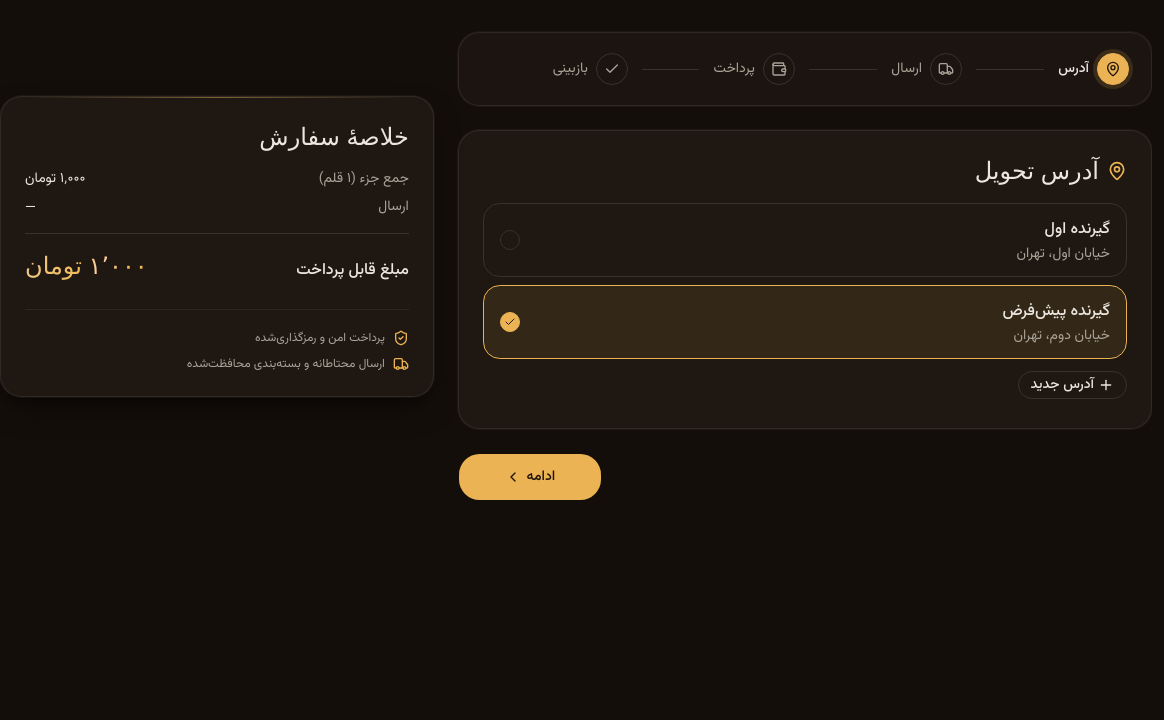
Test: checkout state logic › keeps order submission failures visible beside the retry action
Click the button "ادامه".
click(530, 477)  # box [458,453,602,501]
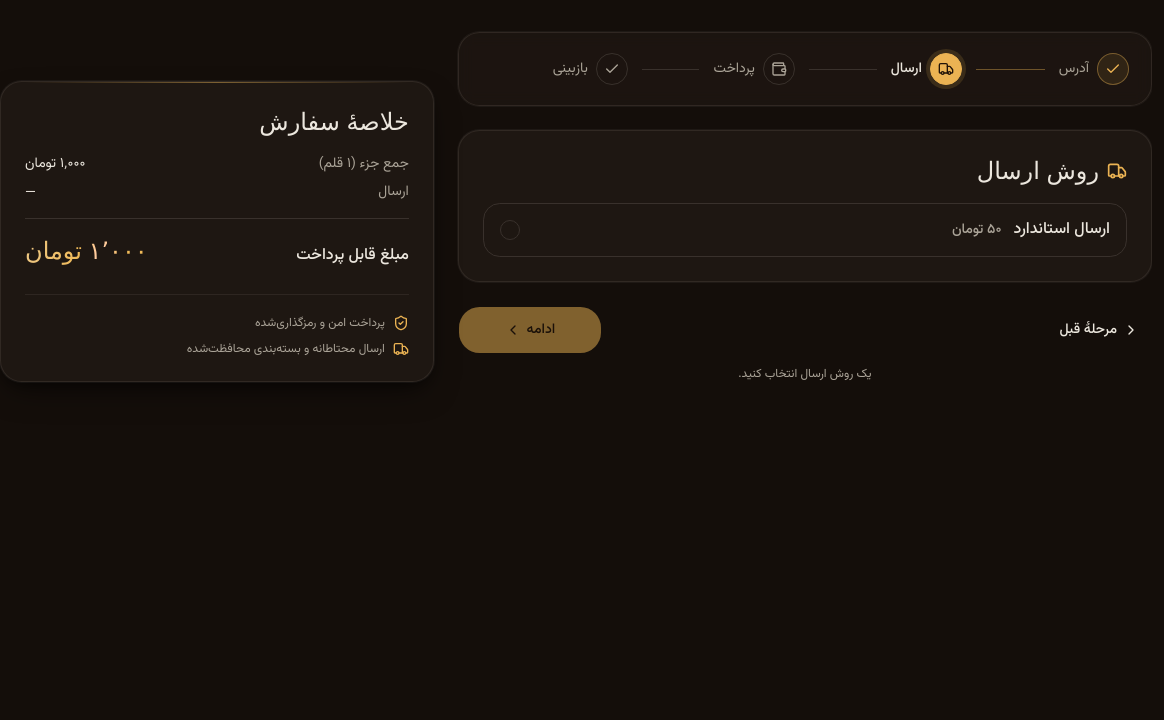
Click the radio button labelled "ارسال استاندارد ۵۰ تومان".
click(1062, 230)  # box [483,203,1127,257]
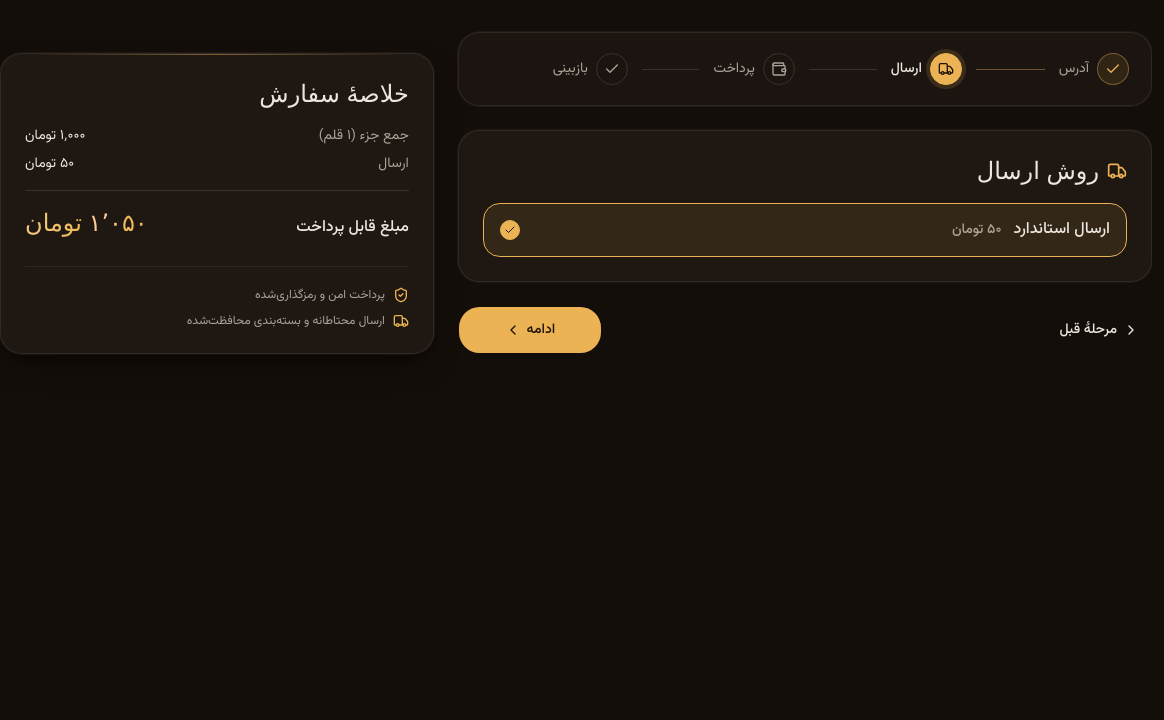
Click the button "ادامه".
click(530, 330)  # box [458,306,602,354]
(page scrolled)
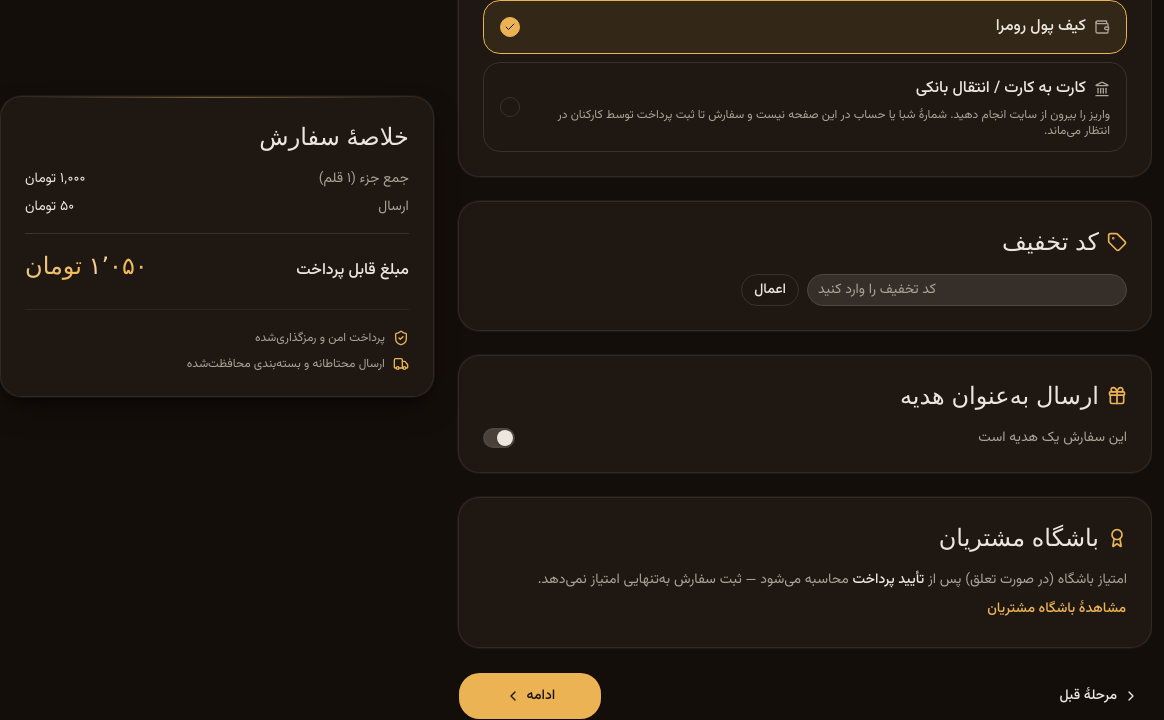
Click the button "ادامه".
click(530, 696)  # box [458,672,602,719]
(page scrolled)
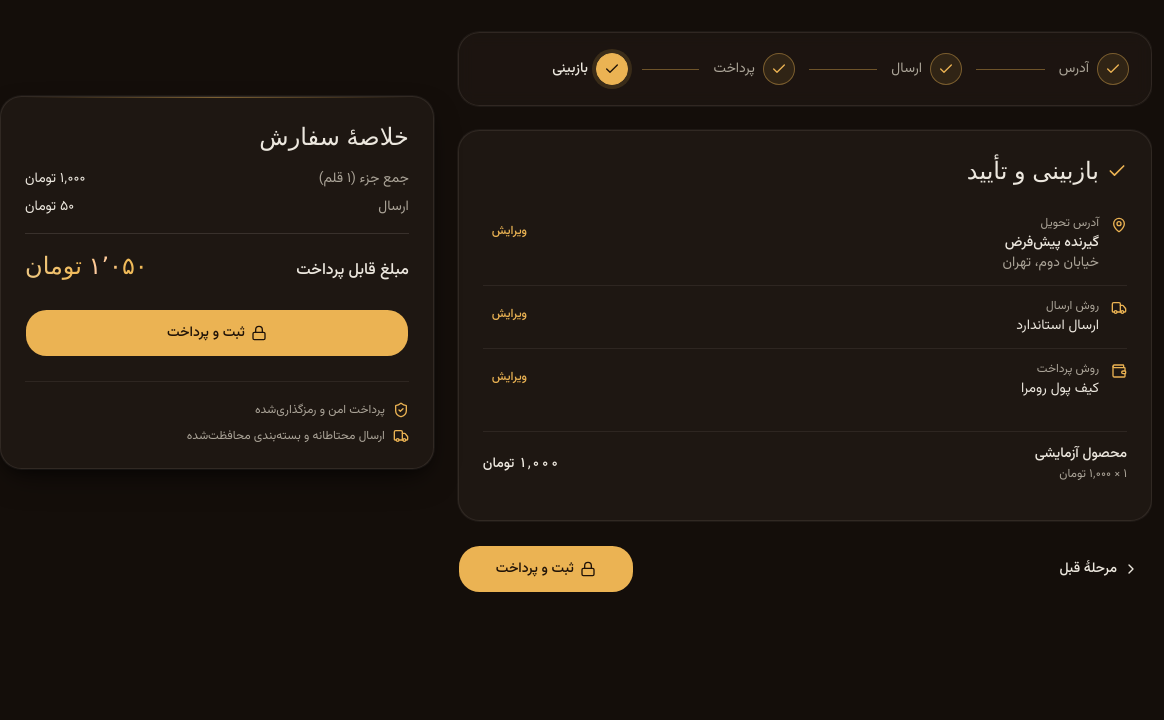
Click the 2nd button "ثبت و پرداخت".
click(546, 569)  # box [458,545,634,593]
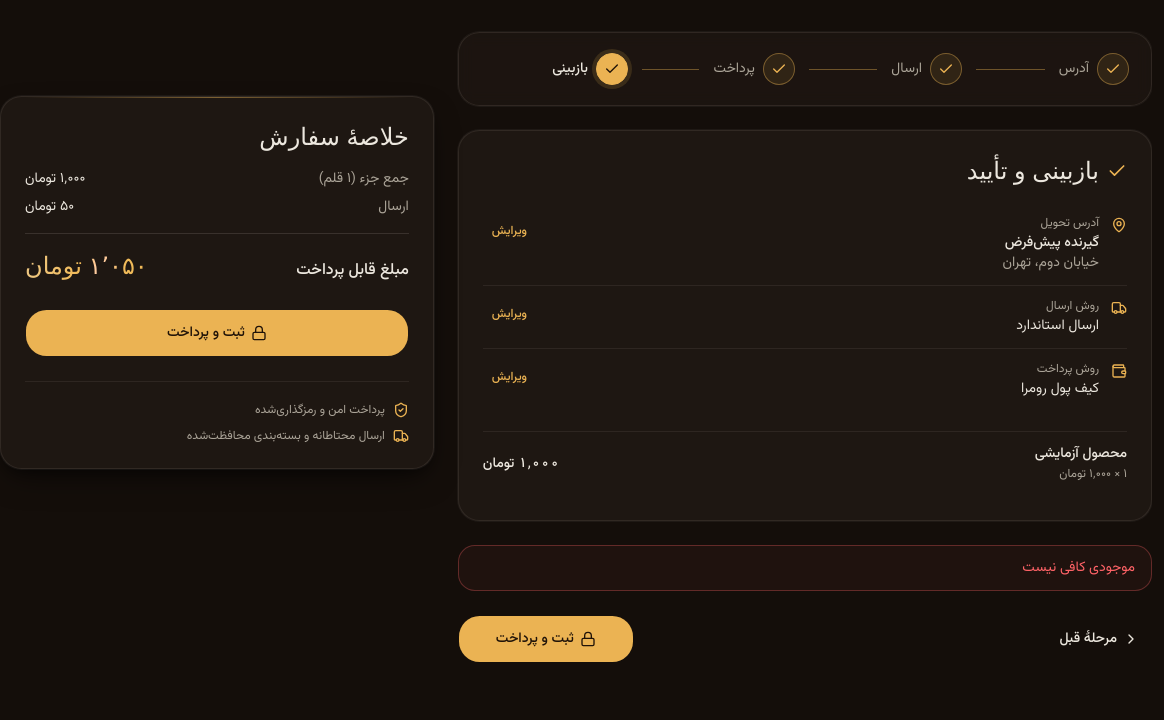
Check: the message reads "موجودی کافی نیست", box [1022,557,1135,579]
